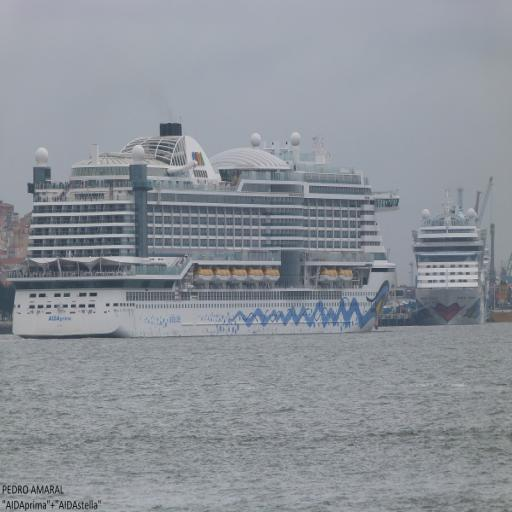cruises: (10, 130, 403, 342), (409, 198, 495, 331)
